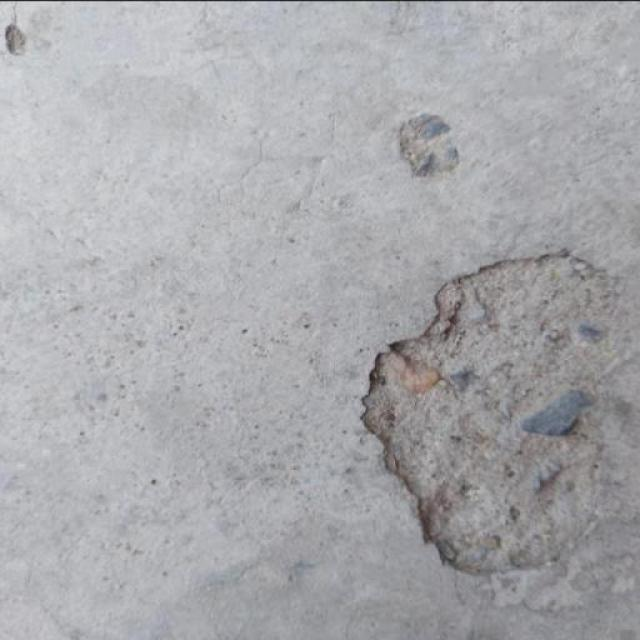D10: (361, 249, 631, 589), (395, 110, 460, 178), (0, 20, 26, 52)
